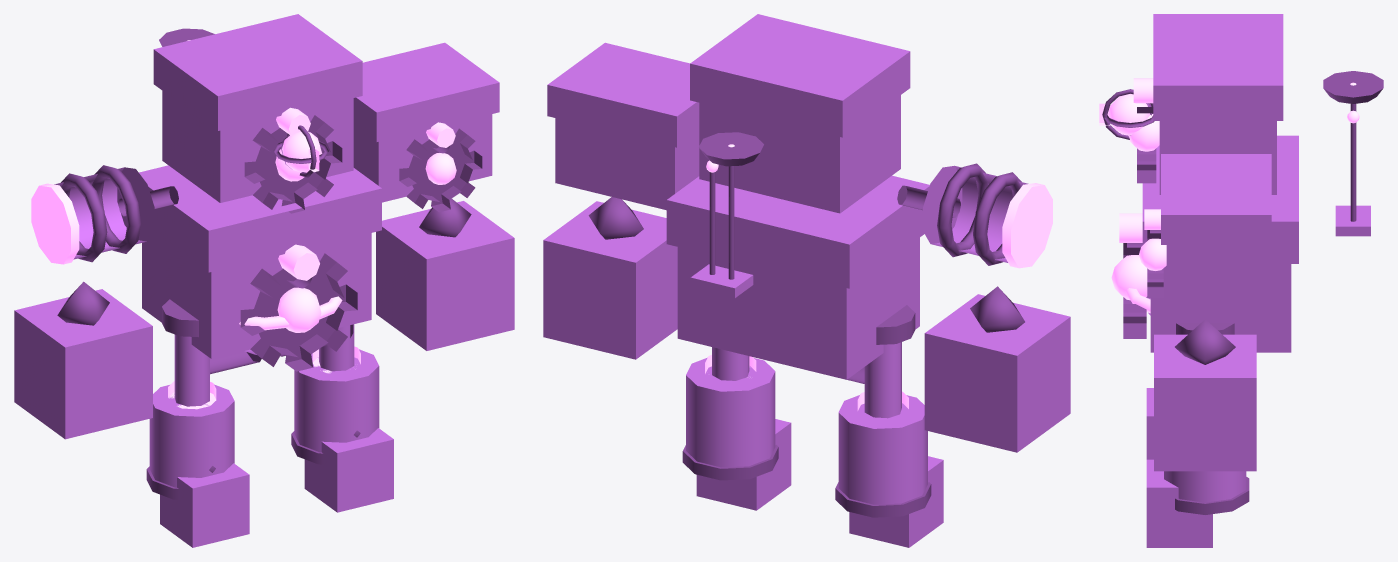
File: golem_143.glb
3 renders of one model, left to right at view 1: azimuth 30°, elevation 25°; view 2: azimuth 150°, elevation 25°; view 3: azimuth 270°, elevation 25°, orthographic. The views are drawn at different scales.
Parts seen in each view (by area): view 1: Body, Detail, Glow; view 2: Body, Detail, Glow; view 3: Body, Detail, Glow.
Boxes of the visible parts, box(x1,y1,x2,y2) form: Body: box(14, 14, 514, 547); Detail: box(57, 28, 482, 499); Glow: box(31, 40, 456, 409); Body: box(543, 14, 1070, 547); Detail: box(588, 132, 1024, 517); Glow: box(705, 144, 1052, 410); Body: box(1130, 14, 1370, 547); Detail: box(1102, 71, 1383, 514); Glow: box(1099, 78, 1359, 313).
Size of the model in its own units: 1.52 by 1.43 by 0.8188.
